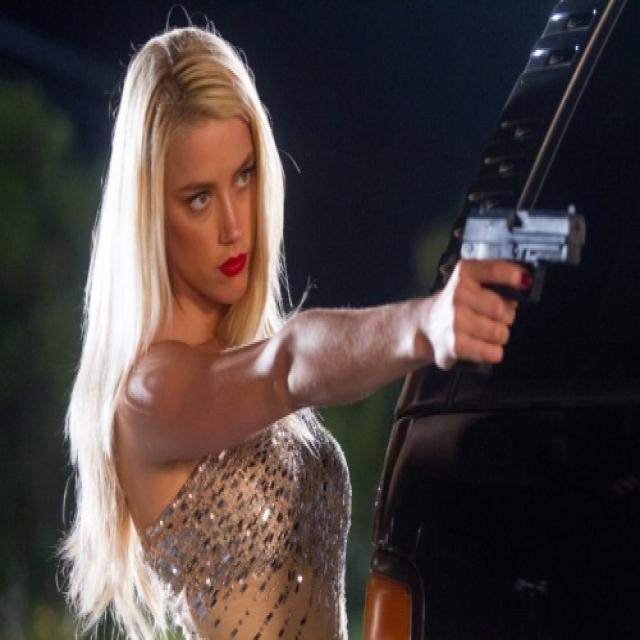weapons: (444, 187, 594, 378)
